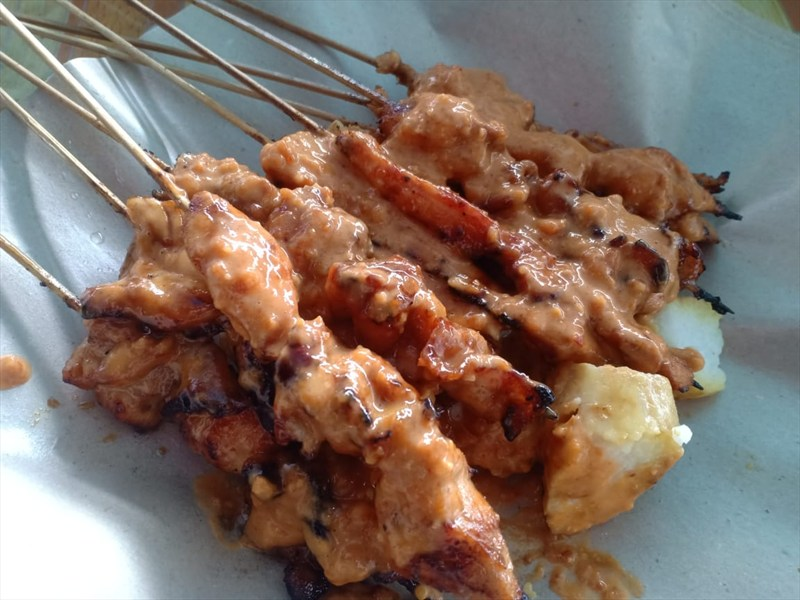Sate Ayam: (132, 119, 668, 506)
